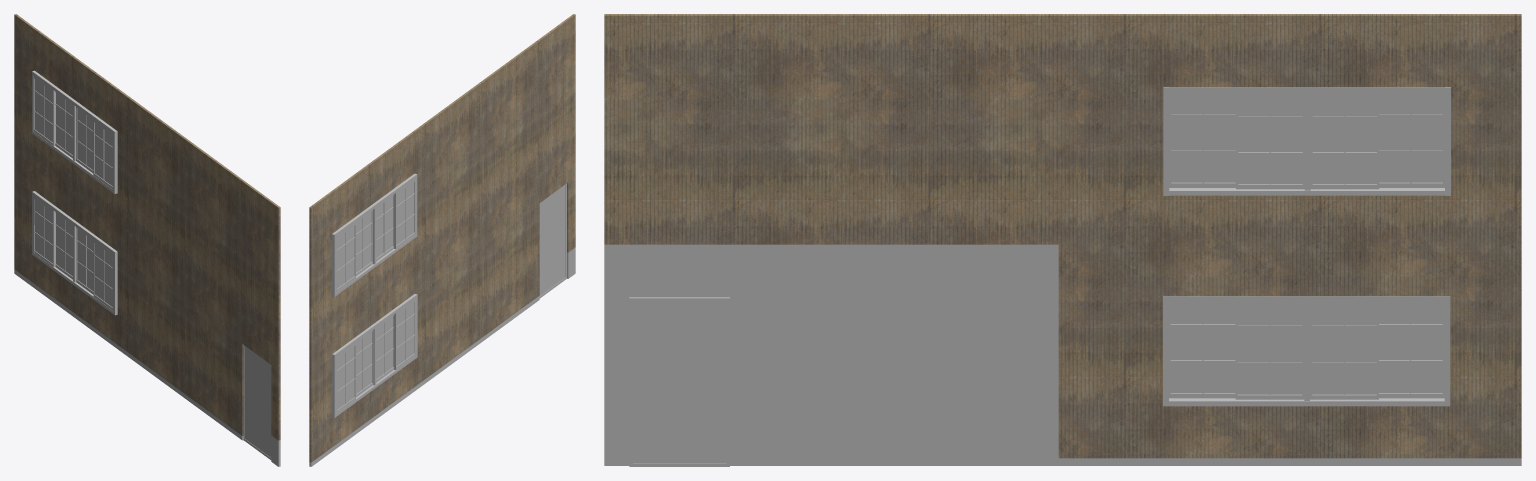
The model's file is Factory_Small_04a.fbx.
The picture shows the model from 3 angles, left to right: view 1: azimuth 30°, elevation 25°; view 2: azimuth 150°, elevation 25°; view 3: azimuth 270°, elevation 25°; orthographic projection. The views are drawn at different scales.
Parts seen in each view (by area): view 1: Factory_Small_04a; view 2: Factory_Small_04a; view 3: Factory_Small_04a.
Boxes of the visible parts, left/top/right/bottom form: Factory_Small_04a: left=14, top=14, right=280, bottom=466; Factory_Small_04a: left=309, top=14, right=575, bottom=466; Factory_Small_04a: left=604, top=14, right=1521, bottom=466.
Size of the model in its own units: 0.1454 by 5.9 by 10.9.
